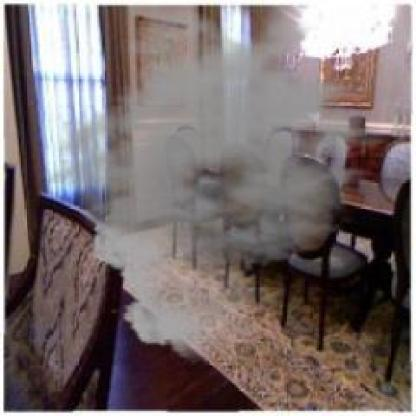Smoke: (46, 5, 408, 364)
